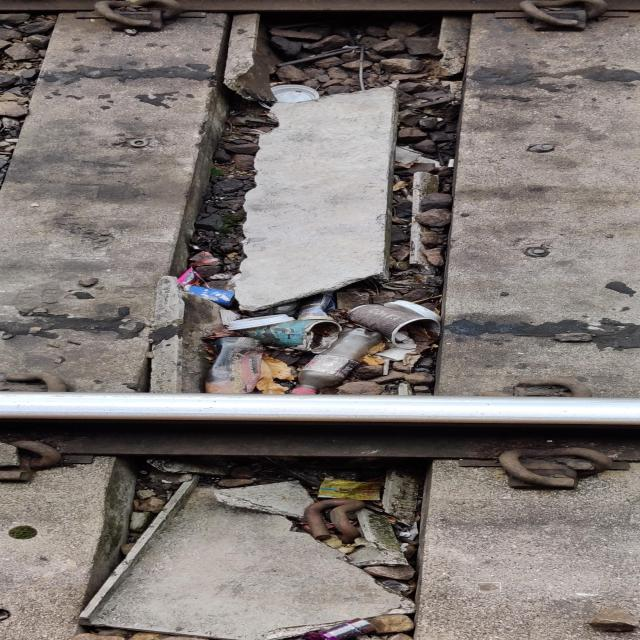litter: (156, 288, 526, 402)
